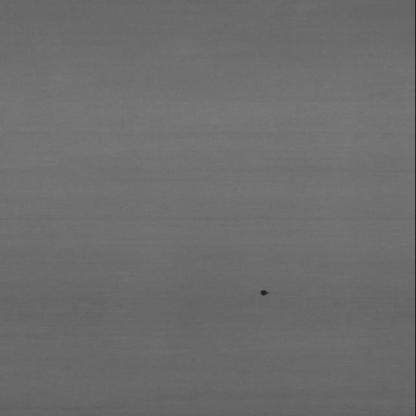inclusion: (253, 289, 273, 297)
